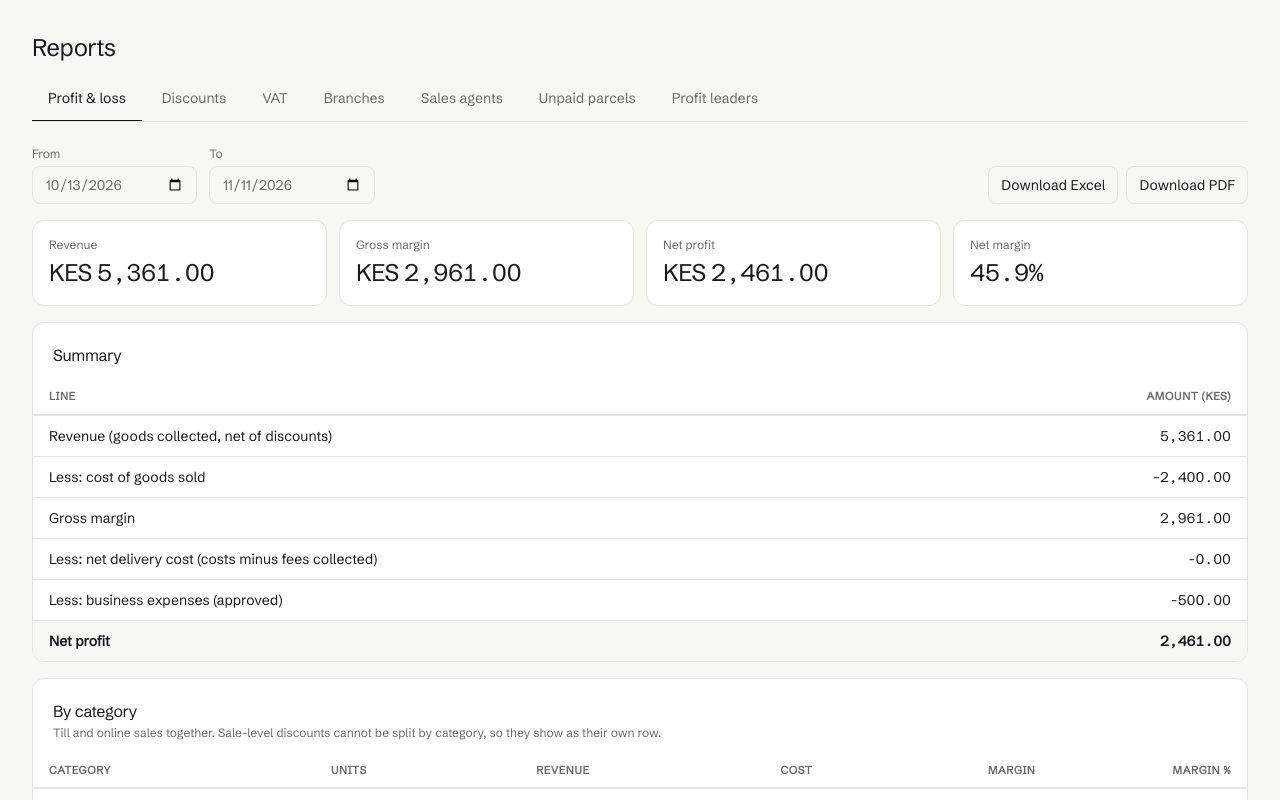
Scenario: Reports page › unpaid parcels › lists what each courier still owes, with the total, and no date range or export
This screenshot has width=1280, height=800.
Click the tab "Unpaid parcels".
click(587, 99)  # box [523, 76, 652, 122]
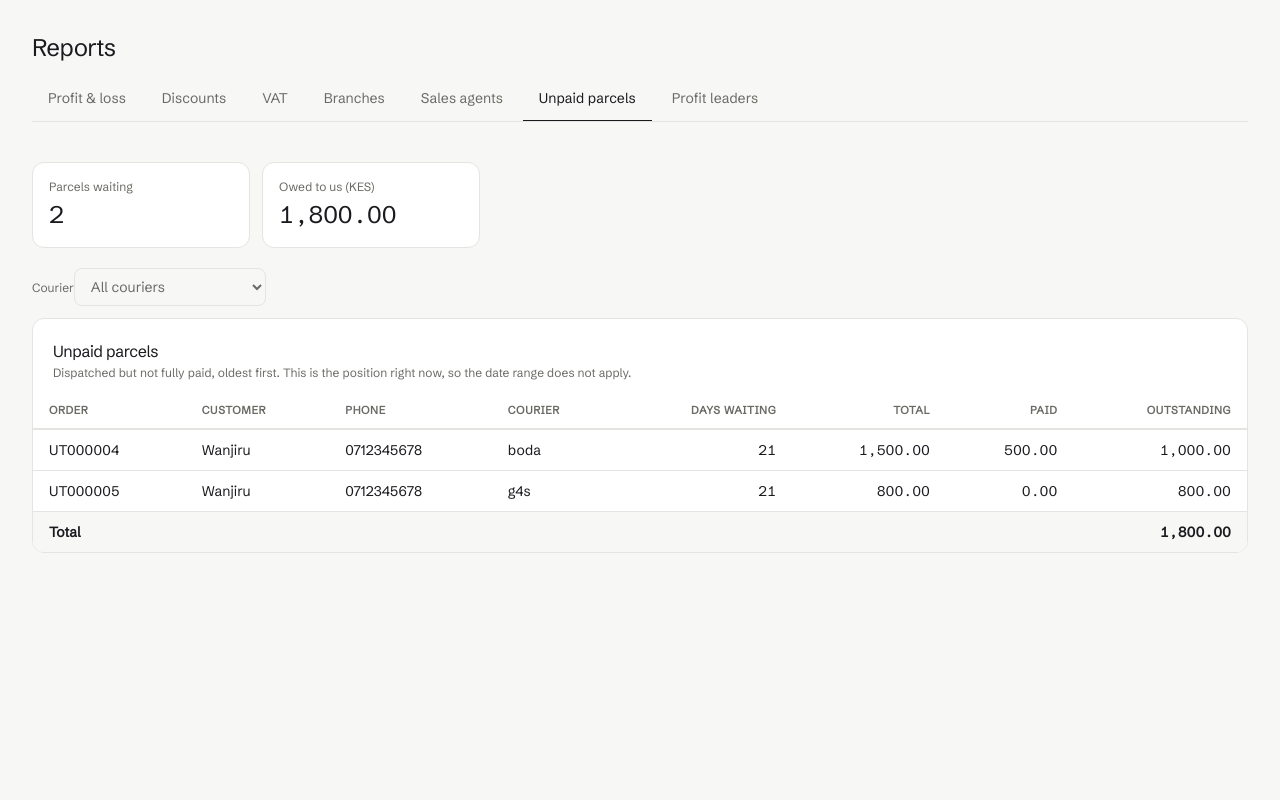
Check: the text "UT000004" is shown, box [33, 429, 186, 470]
Check: the text "UT000005" is shown, box [33, 470, 186, 511]
Check: the text "1,800.00" is shown, box [279, 200, 396, 229]
